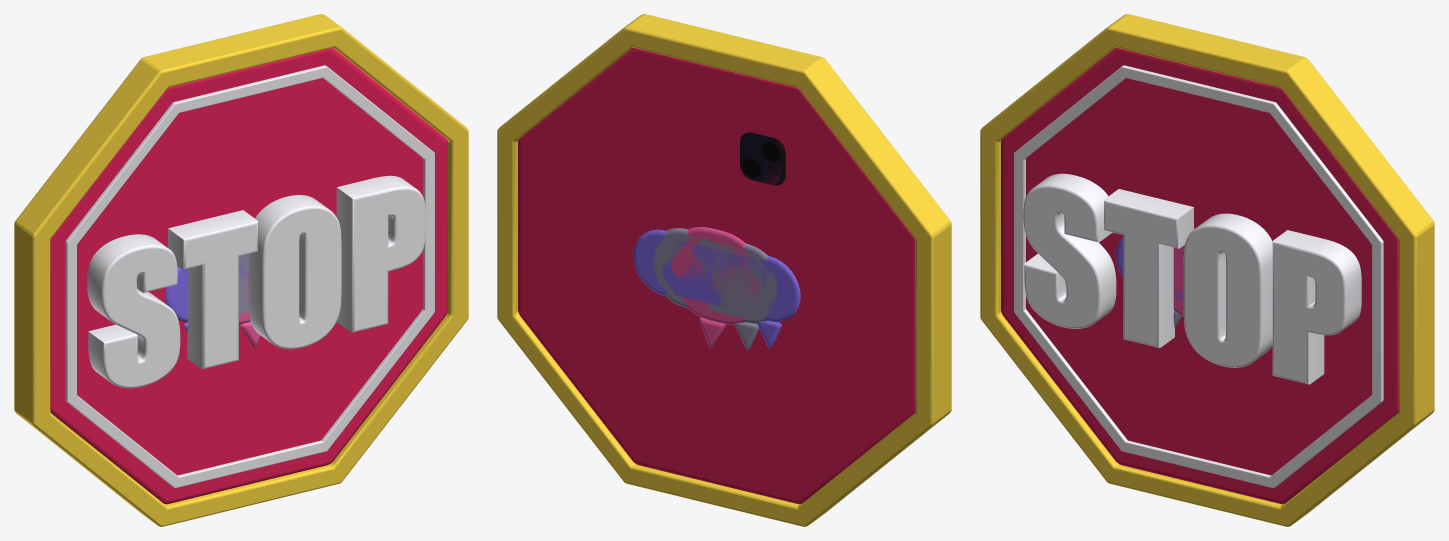
3 views of the same model, side by side, from view 1: azimuth 30°, elevation 25°; view 2: azimuth 150°, elevation 25°; view 3: azimuth 330°, elevation 25° (orthographic).
Parts seen in each view (by area): view 1: StopSign, StopText, StopRim, StopInner, Bubble3, Bubble1; view 2: StopSign, StopRim, Bubble3, Bubble1, Bubble2, CameraBump; view 3: StopSign, StopText, StopRim, StopInner, Bubble2.
Part boxes in pixels (bbox=[...]): StopSign: bbox=[50, 48, 447, 504]; StopText: bbox=[87, 175, 425, 388]; StopRim: bbox=[14, 14, 468, 526]; StopInner: bbox=[65, 65, 434, 488]; Bubble3: bbox=[165, 261, 248, 332]; Bubble1: bbox=[239, 254, 249, 314]; StopSign: bbox=[518, 48, 915, 504]; StopRim: bbox=[497, 14, 951, 526]; Bubble3: bbox=[633, 229, 800, 349]; Bubble1: bbox=[654, 228, 777, 350]; Bubble2: bbox=[671, 227, 759, 348]; CameraBump: bbox=[740, 132, 785, 185]; StopSign: bbox=[1001, 48, 1398, 504]; StopText: bbox=[1023, 173, 1361, 384]; StopRim: bbox=[980, 14, 1434, 526]; StopInner: bbox=[1014, 65, 1383, 488]; Bubble2: bbox=[1173, 228, 1194, 316].
Size of the model in its own units: 2 by 2 by 0.2649.
